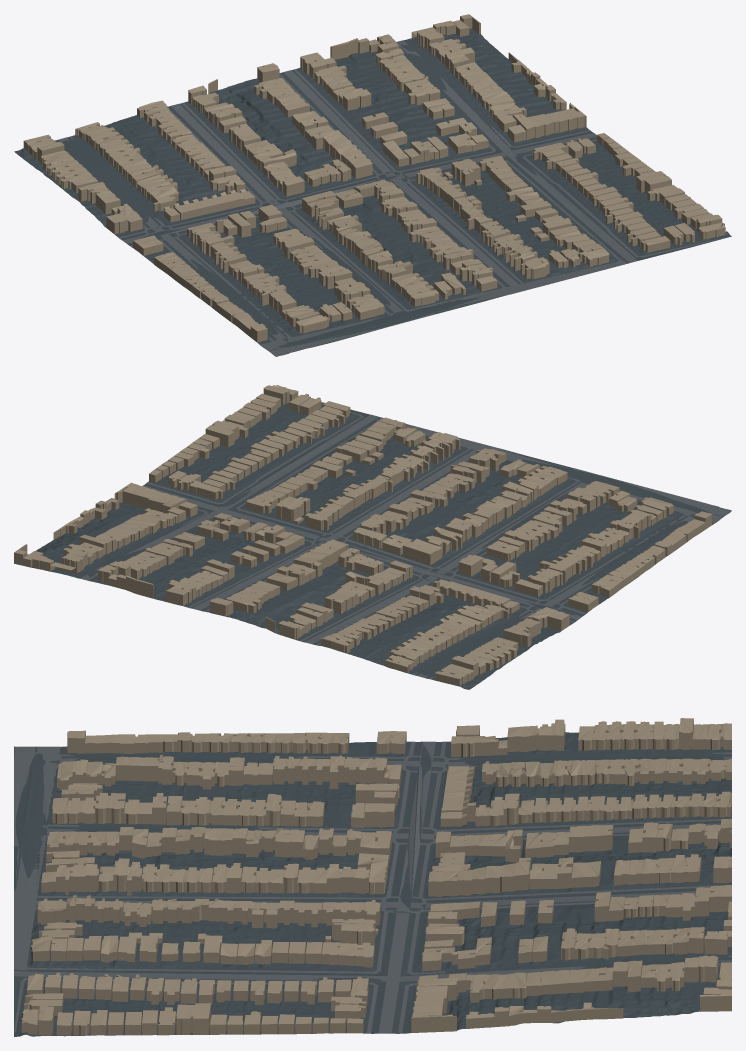
The model's file is epsg26910-1418-10884.lod0.glb.
3 views of the same model, one above another, from view 1: azimuth 30°, elevation 25°; view 2: azimuth 150°, elevation 25°; view 3: azimuth 270°, elevation 25° (orthographic). The views are drawn at different scales.
Visible parts, largest first — view 1: epsg26910-1418-10884-lod0; view 2: epsg26910-1418-10884-lod0; view 3: epsg26910-1418-10884-lod0.
Part boxes in pixels (<box>): epsg26910-1418-10884-lod0: <box>14,14,731,356</box>; epsg26910-1418-10884-lod0: <box>14,385,731,689</box>; epsg26910-1418-10884-lod0: <box>14,718,731,1036</box>.
Bounding box in the file's own units: 384 × 35.08 × 384.
